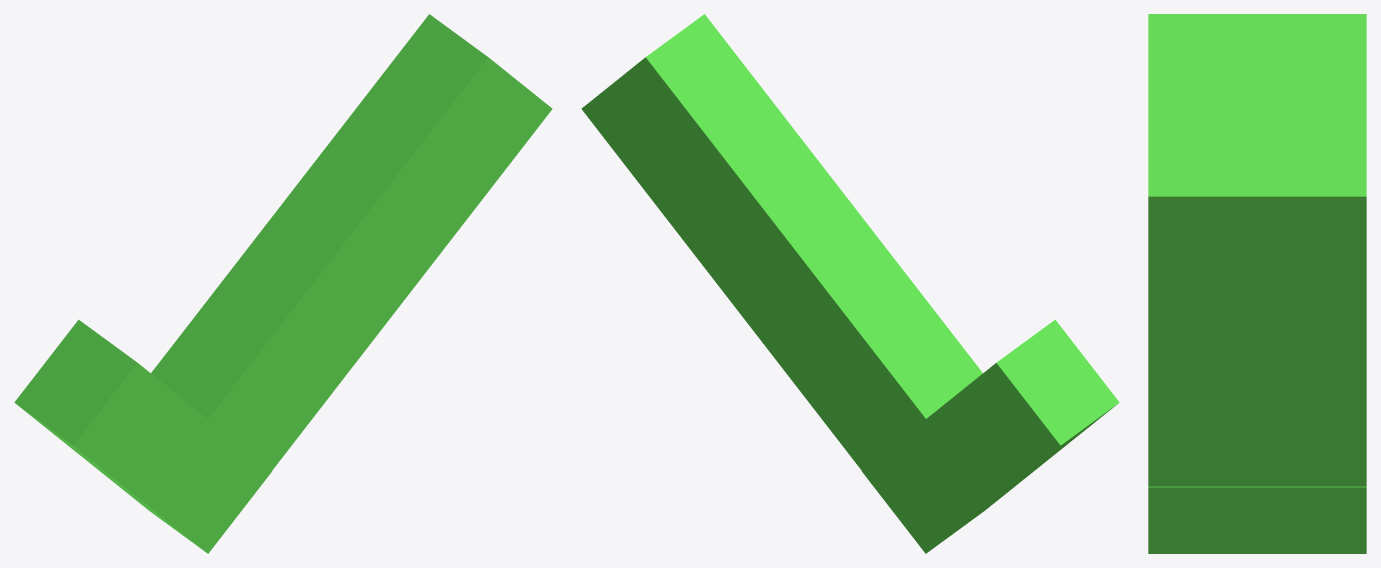
The model's file is stick.fbx.
3 renders of one model, left to right at view 1: azimuth 30°, elevation 25°; view 2: azimuth 150°, elevation 25°; view 3: azimuth 270°, elevation 25°, orthographic. The views are drawn at different scales.
Parts seen in each view (by area): view 1: Cube; view 2: Cube; view 3: Cube.
Part boxes in pixels (x1=…): Cube: x1=14, y1=14, x2=552, y2=553; Cube: x1=581, y1=14, x2=1119, y2=553; Cube: x1=1148, y1=14, x2=1366, y2=553.
Size of the model in its own units: 77.68 by 66.35 by 16.57.
